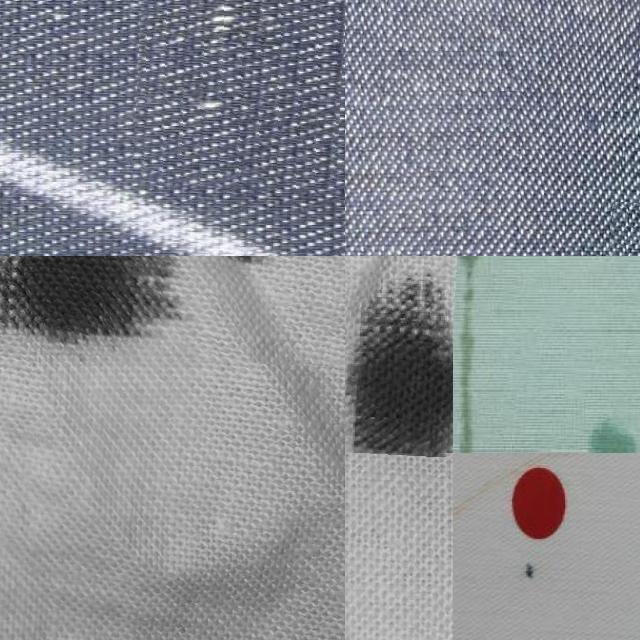Thread_other: (0, 256, 345, 363), (345, 256, 456, 454), (453, 256, 554, 452), (490, 540, 598, 630), (576, 402, 640, 452)
stains: (136, 0, 345, 190)
